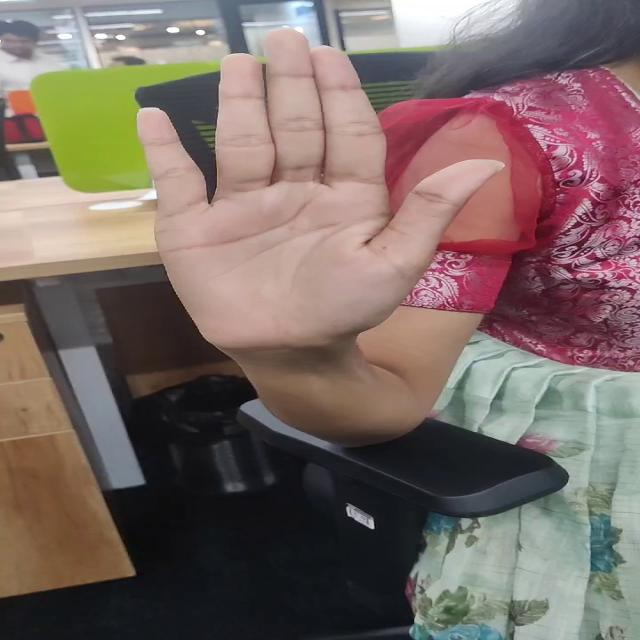no-gloves: (123, 18, 511, 352)
